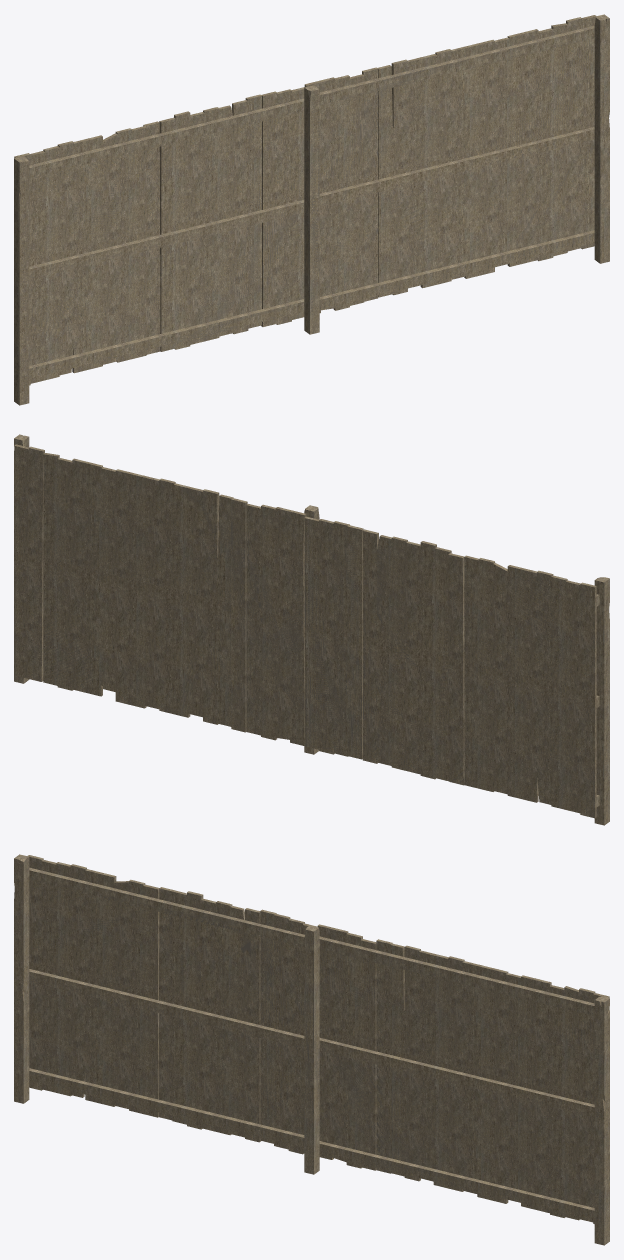
Rendered from Fence.fbx.
3 views of the same model, one above another, from view 1: azimuth 30°, elevation 25°; view 2: azimuth 150°, elevation 25°; view 3: azimuth 330°, elevation 25° (orthographic).
Parts seen in each view (by area): view 1: Model; view 2: Model; view 3: Model.
Part boxes in pixels (x1=…): Model: x1=14, y1=14, x2=609, y2=405; Model: x1=14, y1=434, x2=609, y2=825; Model: x1=14, y1=854, x2=609, y2=1245.
Size of the model in its own units: 180 by 70.87 by 6.2.
